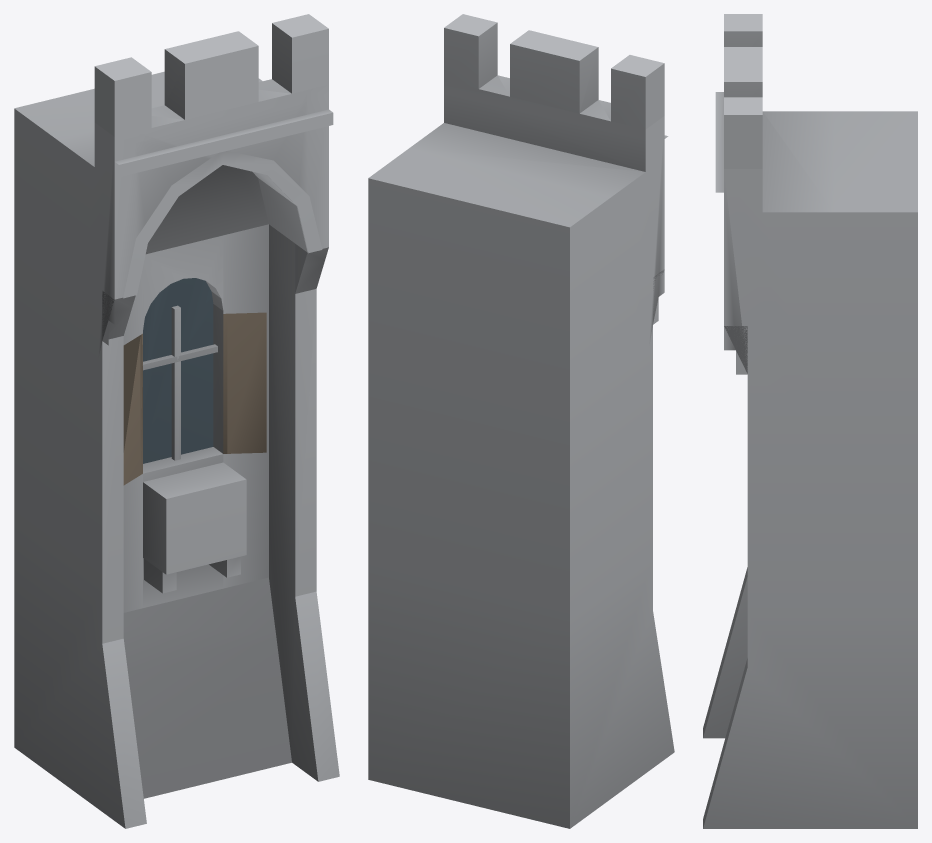
Rendered from sg_seawall_window.glb.
The picture shows the model from 3 angles, left to right: view 1: azimuth 30°, elevation 25°; view 2: azimuth 150°, elevation 25°; view 3: azimuth 270°, elevation 25°; orthographic projection. The views are drawn at different scales.
Visible parts, largest first — view 1: sg_seawall_window_SG_Stone, sg_seawall_window_SG_Glass, sg_seawall_window_SG_Joinery; view 2: sg_seawall_window_SG_Stone; view 3: sg_seawall_window_SG_Stone.
Boxes of the visible parts, x1=… form: sg_seawall_window_SG_Stone: x1=14, y1=14, x2=339, y2=828; sg_seawall_window_SG_Glass: x1=143, y1=278, x2=213, y2=463; sg_seawall_window_SG_Joinery: x1=123, y1=312, x2=266, y2=485; sg_seawall_window_SG_Stone: x1=368, y1=14, x2=674, y2=828; sg_seawall_window_SG_Stone: x1=703, y1=14, x2=917, y2=828.
Bounding box in the file's own units: 4 × 13.2 × 3.6.
